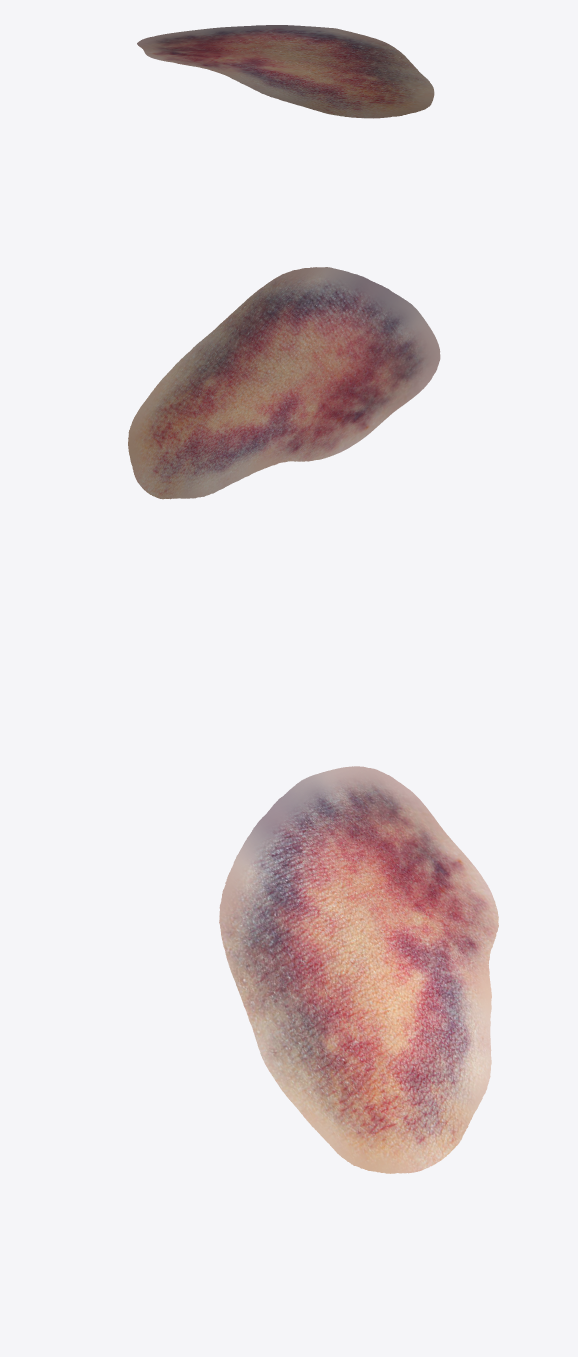
The model's file is Livido2.fbx.
The picture shows the model from 3 angles, top to bottom: view 1: azimuth 30°, elevation 25°; view 2: azimuth 150°, elevation 25°; view 3: azimuth 270°, elevation 25°; orthographic projection. The views are drawn at different scales.
Parts seen in each view (by area): view 1: Livido2; view 2: Livido2; view 3: Livido2.
Boxes of the visible parts, x1,y1,x2,y2 form: Livido2: [137, 25, 434, 118]; Livido2: [128, 267, 440, 499]; Livido2: [219, 766, 498, 1173].
Size of the model in its own units: 13.22 by 7.63 by 9.7.
Materials: 1 (1 with a texture image).
